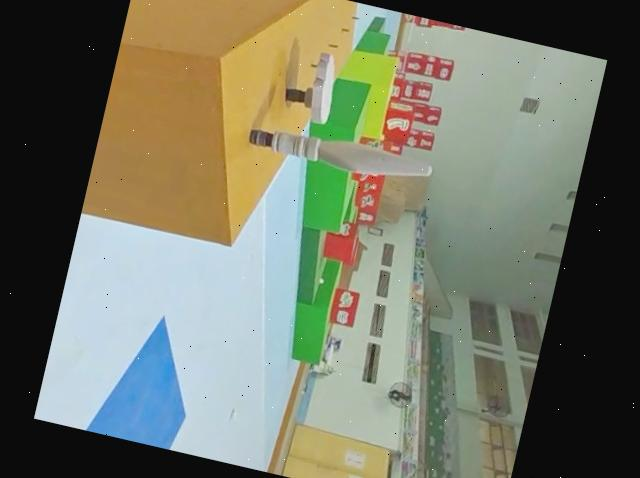Hand: (280, 45, 346, 125)
Sph: (240, 115, 437, 195)
